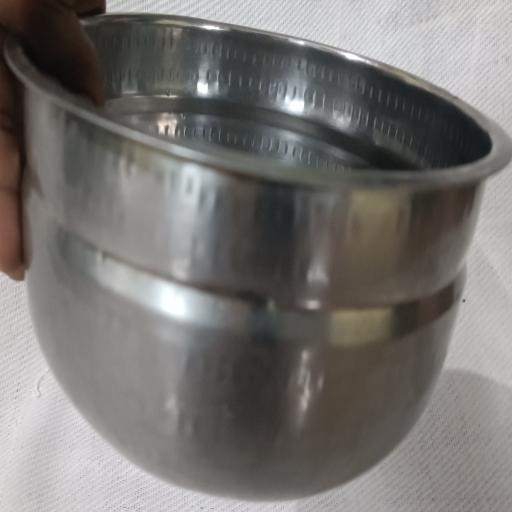vessel: (6, 15, 512, 499)
